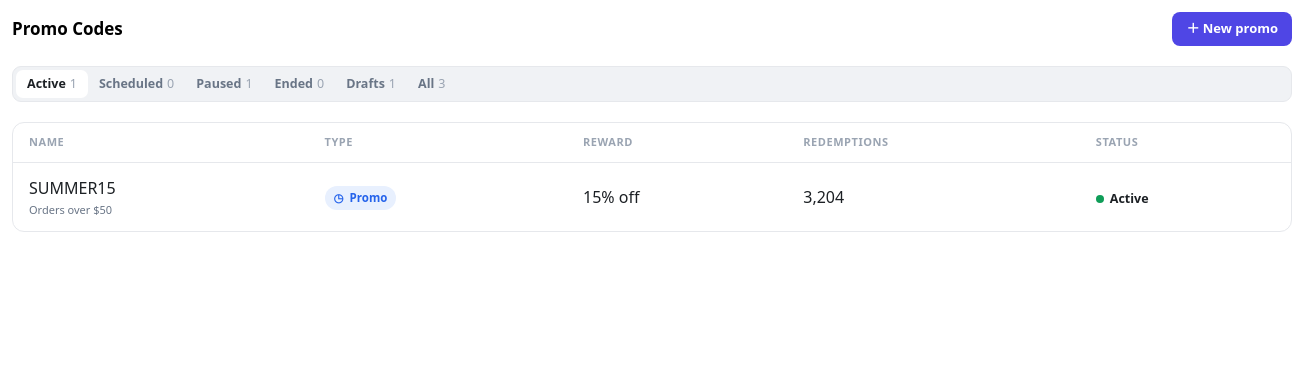
it: clicking "All" filter then shows WELCOME10 too
Click the button "All3": x=432, y=84 left=407, top=70, right=456, bottom=98
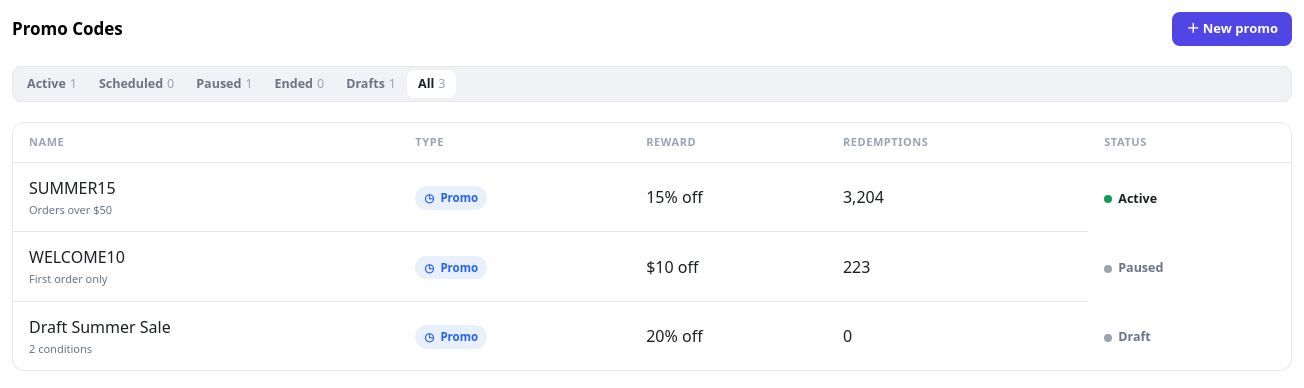
Expected: the text "SUMMER15" is shown, left=29, top=177, right=116, bottom=199
Result: the text "WELCOME10" is shown at left=29, top=246, right=125, bottom=268
